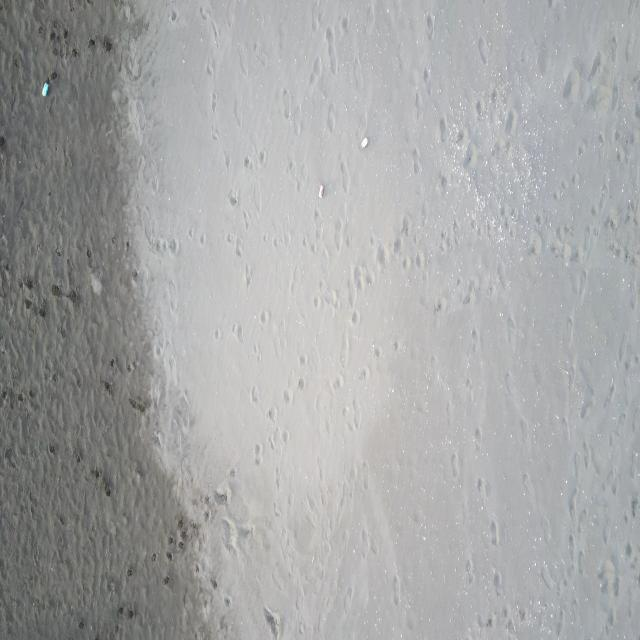Garbage: (42, 80, 48, 96), (360, 136, 367, 148), (319, 183, 324, 198)
